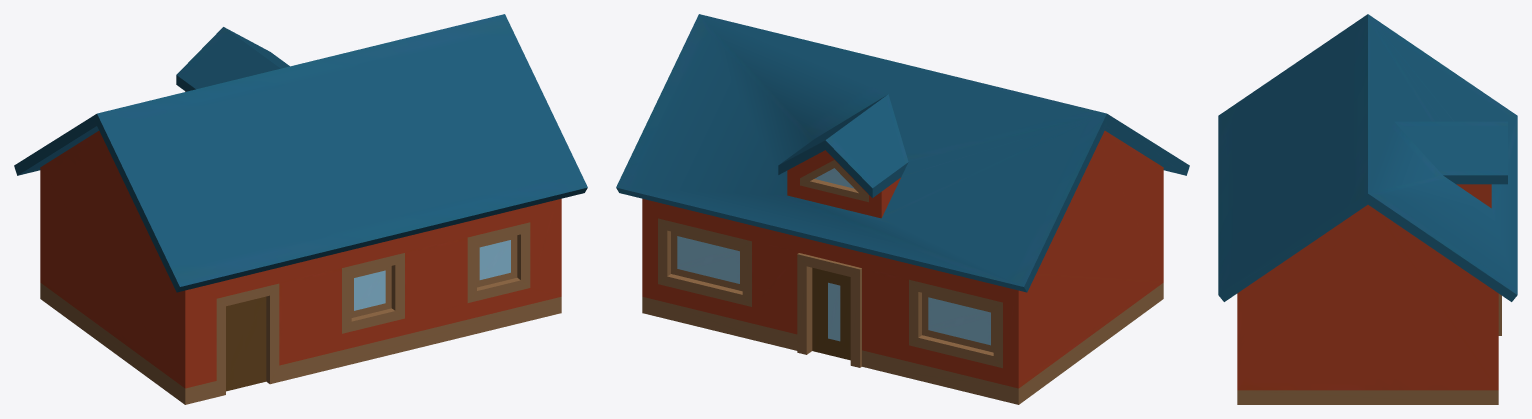
File: house_type07.fbx
3 renders of one model, left to right at view 1: azimuth 30°, elevation 25°; view 2: azimuth 150°, elevation 25°; view 3: azimuth 270°, elevation 25°, orthographic. The views are drawn at different scales.
Parts seen in each view (by area): view 1: house_type07; view 2: house_type07; view 3: house_type07.
Part boxes in pixels (box(x1,y1,x2,y2)): house_type07: box(14, 14, 587, 404); house_type07: box(616, 14, 1189, 404); house_type07: box(1218, 14, 1517, 404).
Bounding box in the file's own units: 13 × 7.38 × 9.16.
1 material, 1 textured.
